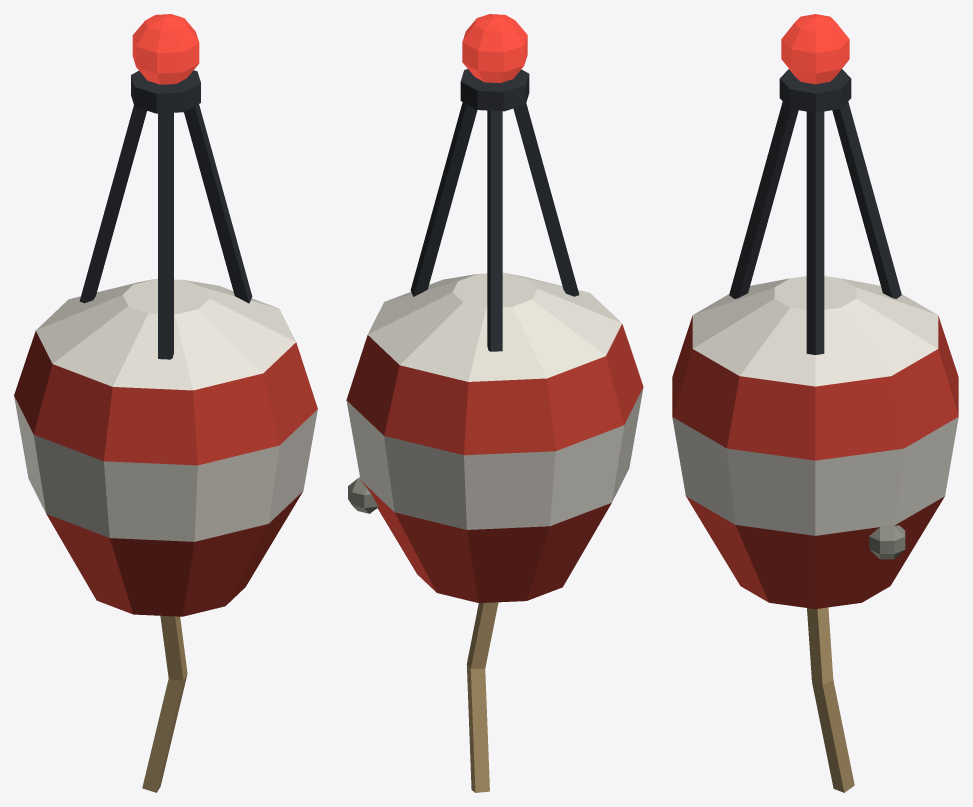
Rendered from buoy.glb.
3 views of the same model, side by side, from view 1: azimuth 30°, elevation 25°; view 2: azimuth 150°, elevation 25°; view 3: azimuth 270°, elevation 25° (orthographic). The views are drawn at different scales.
Visible parts, largest first — view 1: buoy, buoy_light; view 2: buoy, buoy_light; view 3: buoy, buoy_light.
Boxes of the visible parts, x1,y1,x2,y2 form: buoy: (14, 70, 317, 792); buoy_light: (132, 14, 199, 84); buoy: (346, 69, 643, 792); buoy_light: (462, 14, 527, 83); buoy: (672, 69, 958, 792); buoy_light: (781, 14, 849, 84).
Bounding box in the file's own units: 0.84 × 2.38 × 0.7989.
2 materials, 2 textured.
